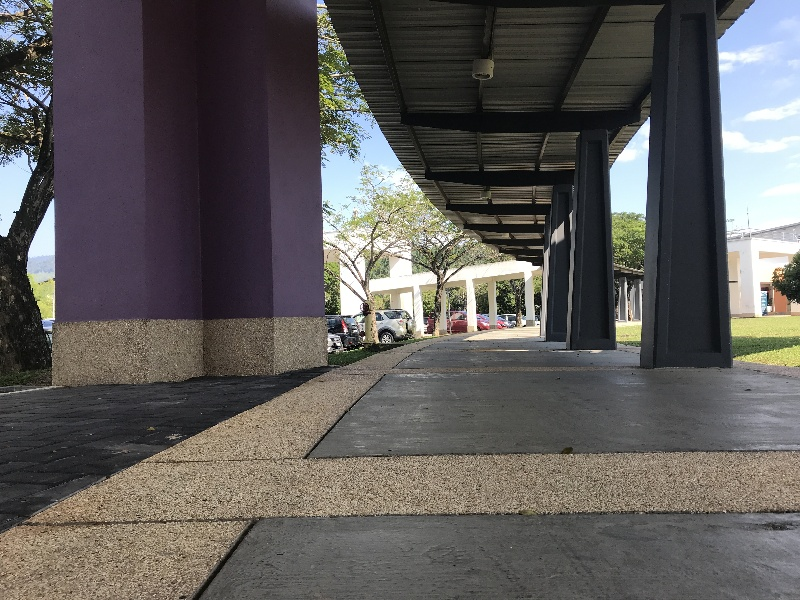pillar: (41, 1, 334, 381), (644, 11, 730, 375), (576, 135, 612, 358), (544, 184, 569, 343)
